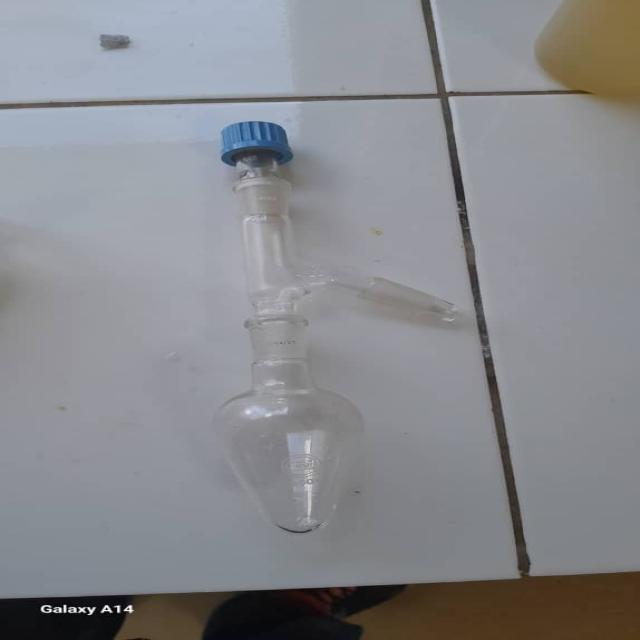Distillation: (135, 112, 482, 544)
